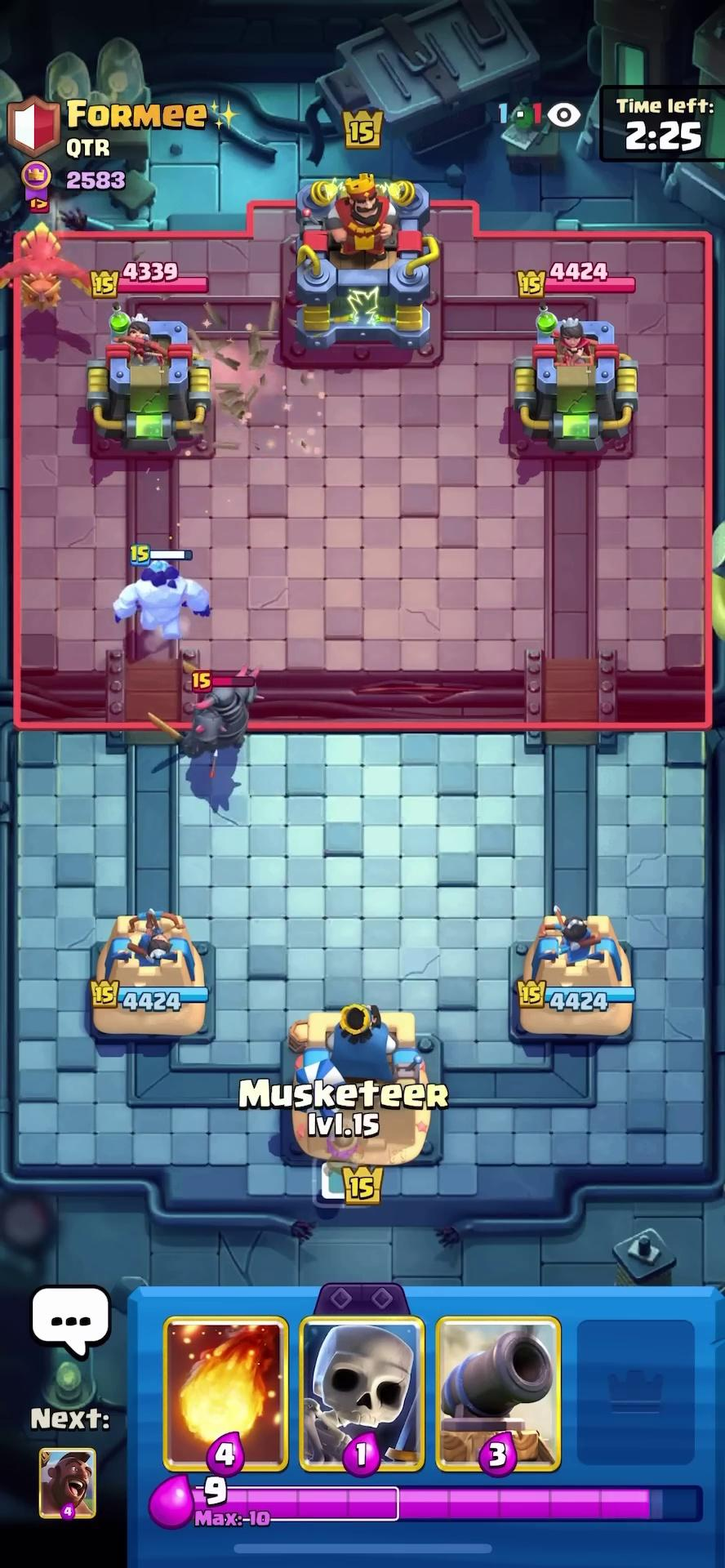ice_golem: (110, 539, 216, 645)
